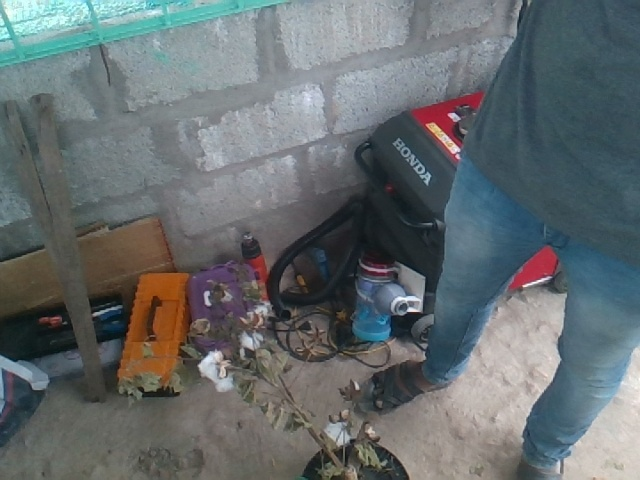cotton: (201, 350, 231, 393)
